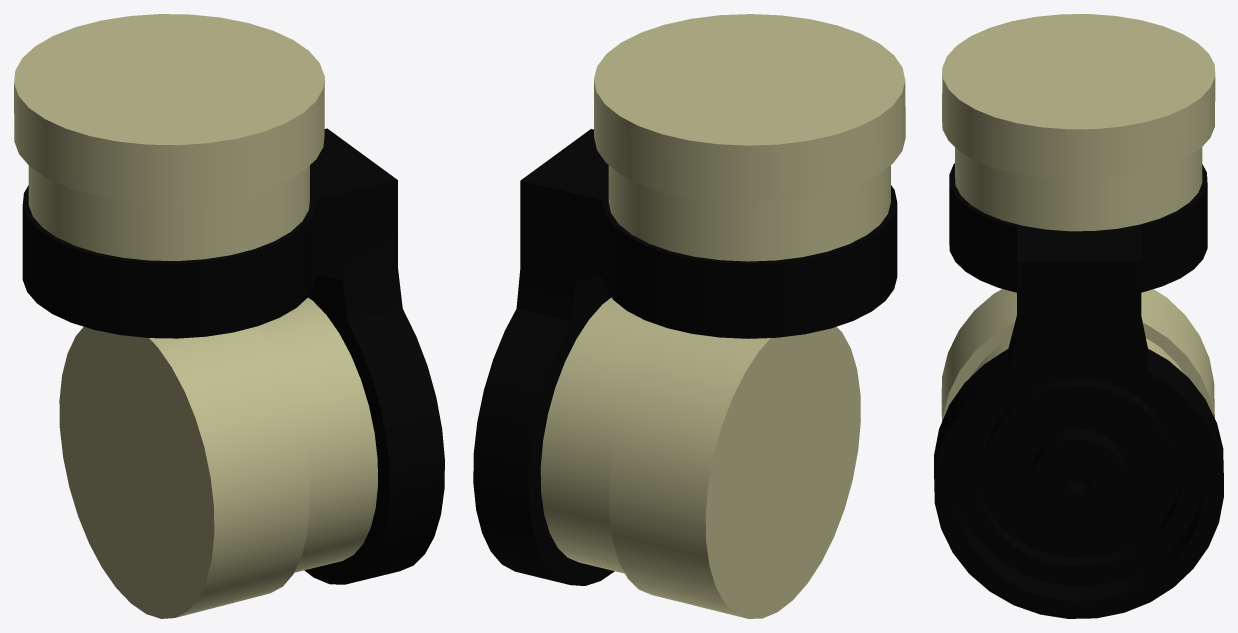
The picture shows the model from 3 angles, left to right: view 1: azimuth 30°, elevation 25°; view 2: azimuth 150°, elevation 25°; view 3: azimuth 270°, elevation 25°; orthographic projection. The views are drawn at different scales.
Visible parts, largest first — view 1: v_wb_link_2; view 2: v_wb_link_2; view 3: v_wb_link_2.
Boxes of the visible parts, x1,y1,x2,y2 form: v_wb_link_2: (14, 14, 444, 618); v_wb_link_2: (473, 14, 905, 618); v_wb_link_2: (934, 14, 1223, 618).
Size of the model in its own units: 0.1607 by 0.1397 by 0.247.
1 material, 1 textured.
